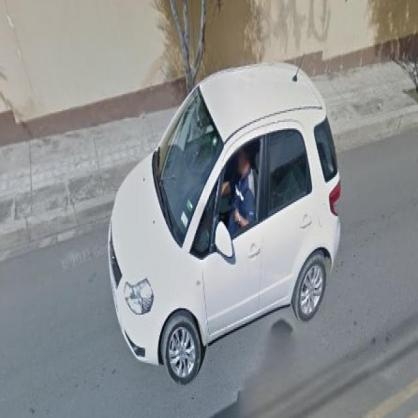car: (104, 62, 346, 387)
